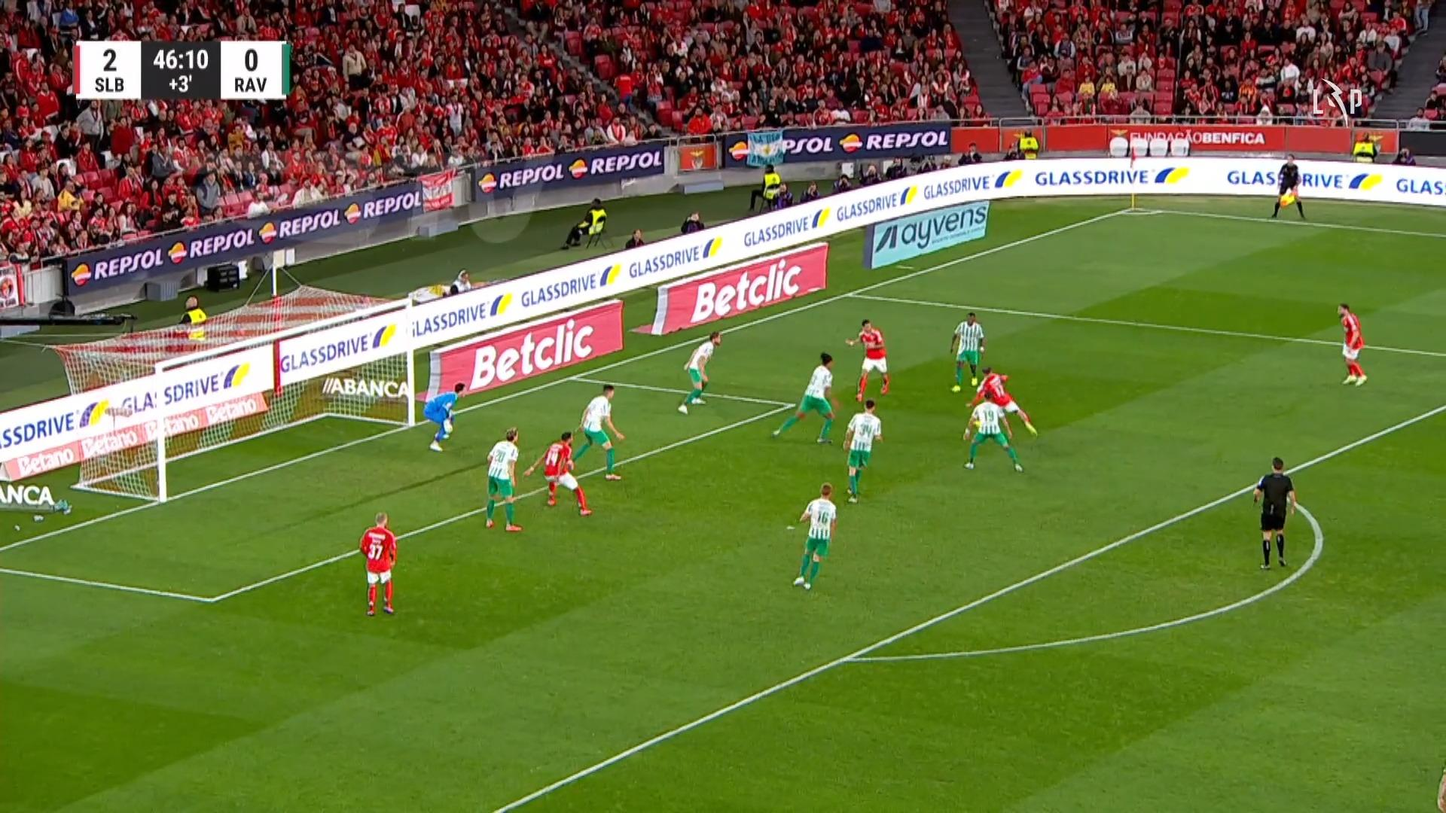ball: (786, 525, 793, 530)
goalkeeper: (422, 381, 465, 452)
player: (770, 351, 837, 444), (523, 430, 593, 516), (965, 364, 1038, 440), (569, 383, 625, 480), (791, 482, 837, 590), (962, 391, 1023, 472), (842, 398, 883, 503), (358, 511, 397, 616), (484, 426, 522, 531), (676, 330, 721, 414), (844, 318, 889, 402), (948, 311, 986, 391), (1337, 302, 1367, 386)
referee: (1252, 455, 1297, 569), (1269, 152, 1307, 220)
